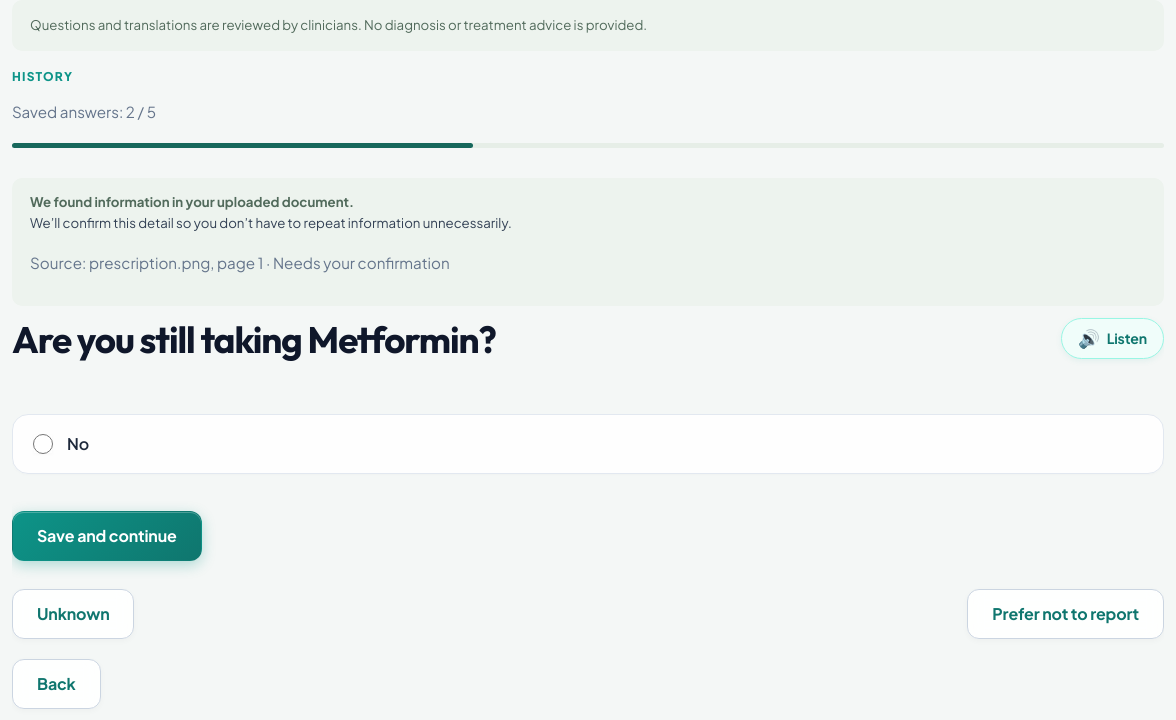
Test: does not show covered-history success for a no document response
Step 1. Click the radio button labelled "No" → (43, 444), box x1=33 y1=434 x2=53 y2=454
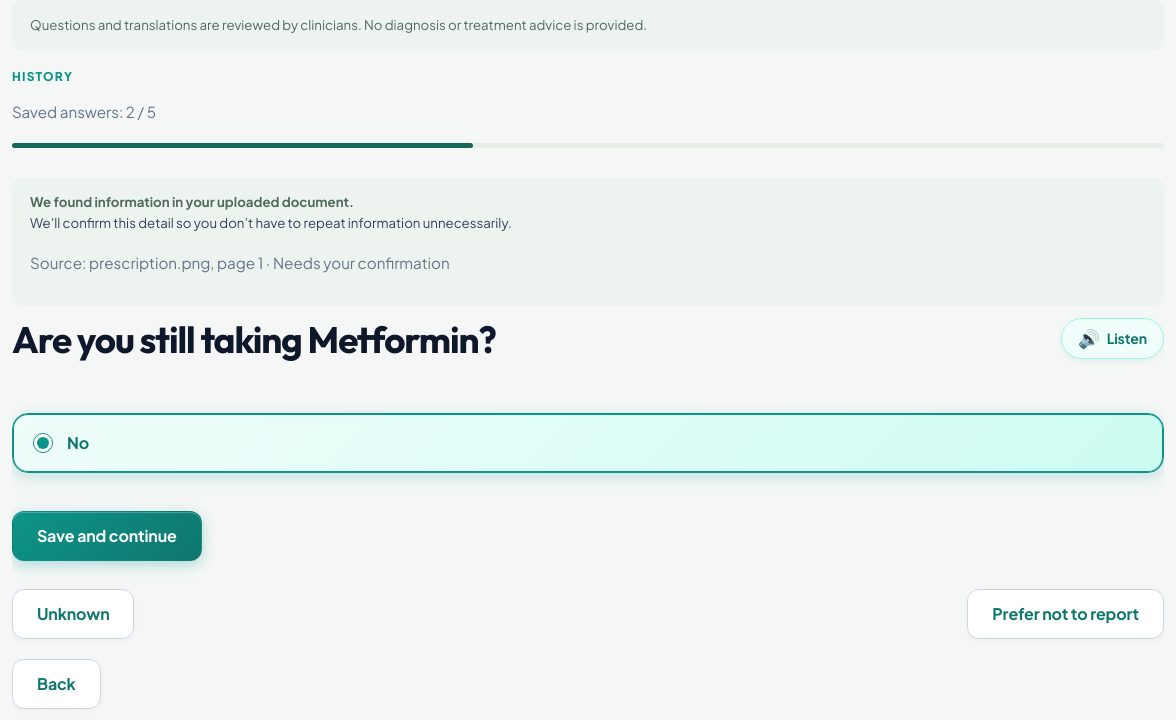
Step 2. Click the button "Save and continue" → (107, 536), box x1=12 y1=511 x2=202 y2=561
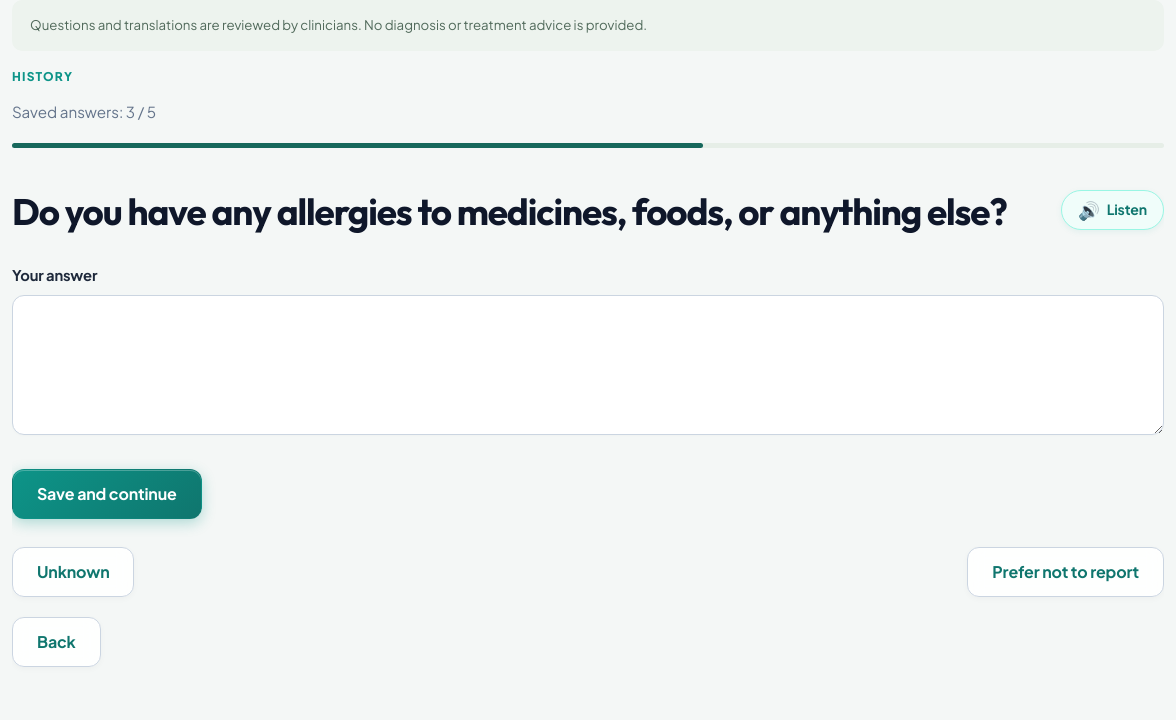
Check: the heading "Do you have any allergies to medicines, foods, or anything else?" is shown, box x1=12 y1=190 x2=1045 y2=234
